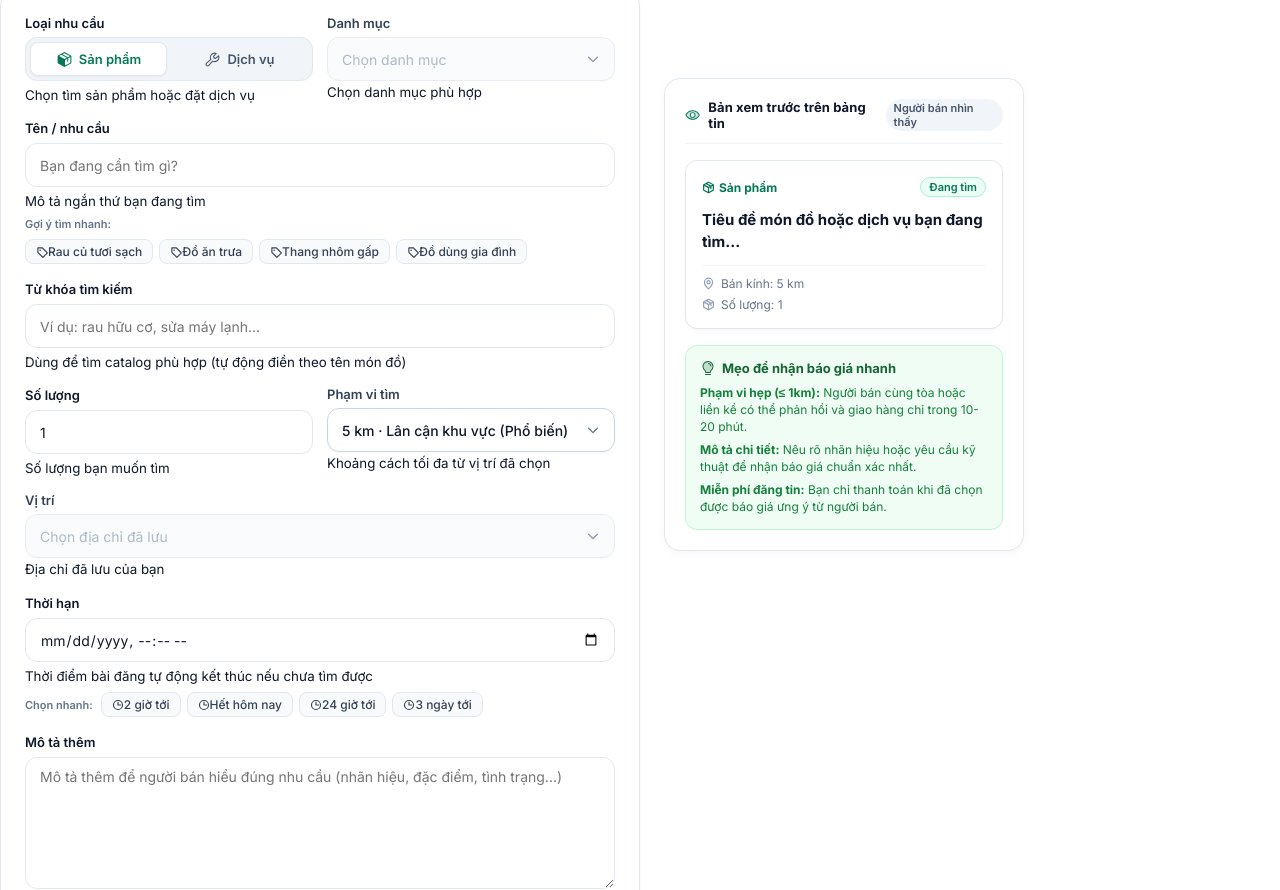
Test: offers retry after a prerequisite read fails and preserves entered text
Type "Tìm rau" into the field labelled "Tên / nhu cầu Mô tả ngắn thứ bạn đang tìm" at [320, 165], box [25,143,615,187]
(page scrolled)
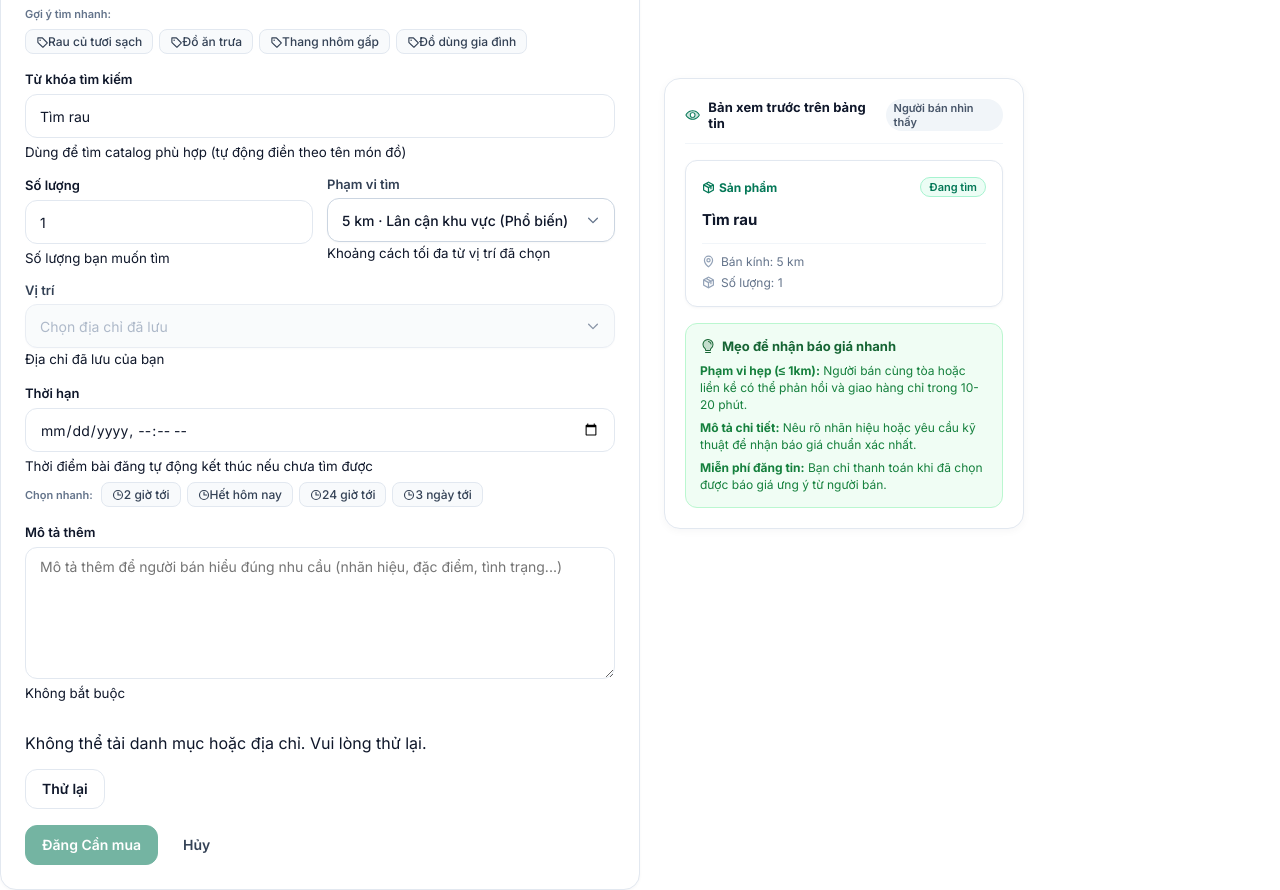
Click the button "Thử lại" at [65, 789], box [25,769,105,809]
(page scrolled)
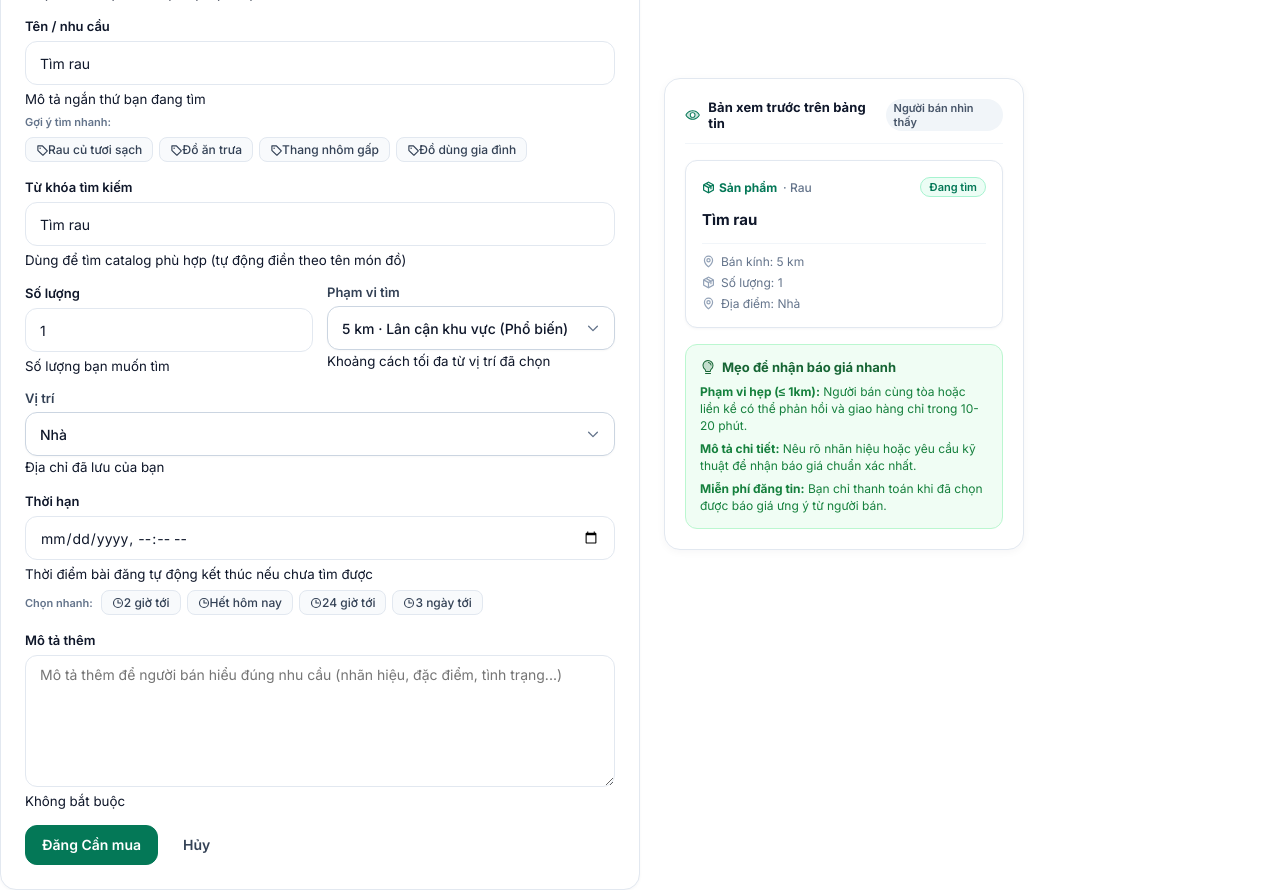
Now the button "Đăng Cần mua" is enabled, box [25,825,158,865]
